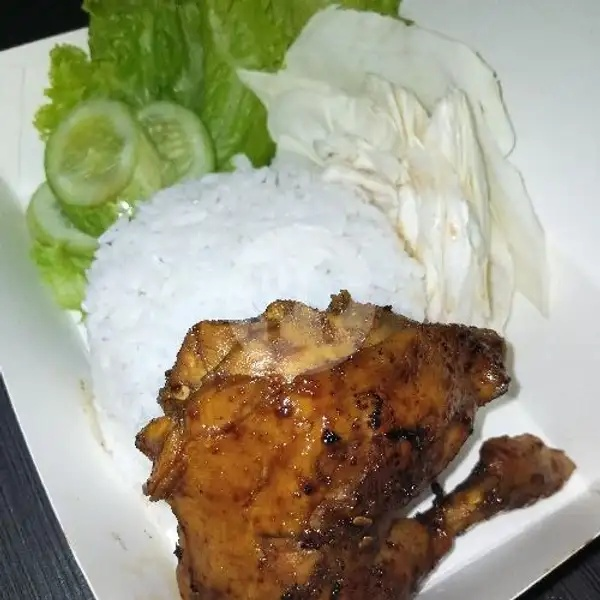ayam_goreng: (86, 298, 599, 600)
